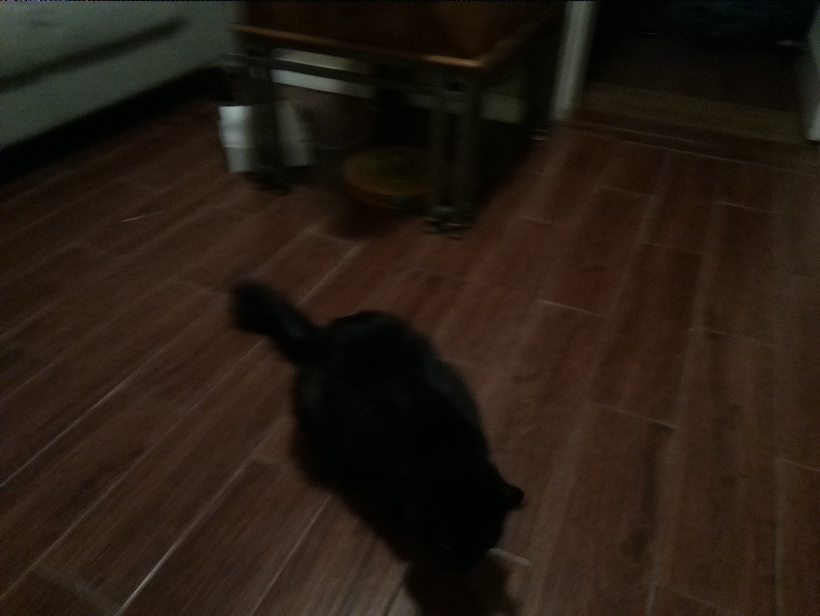cat: (223, 279, 527, 575)
